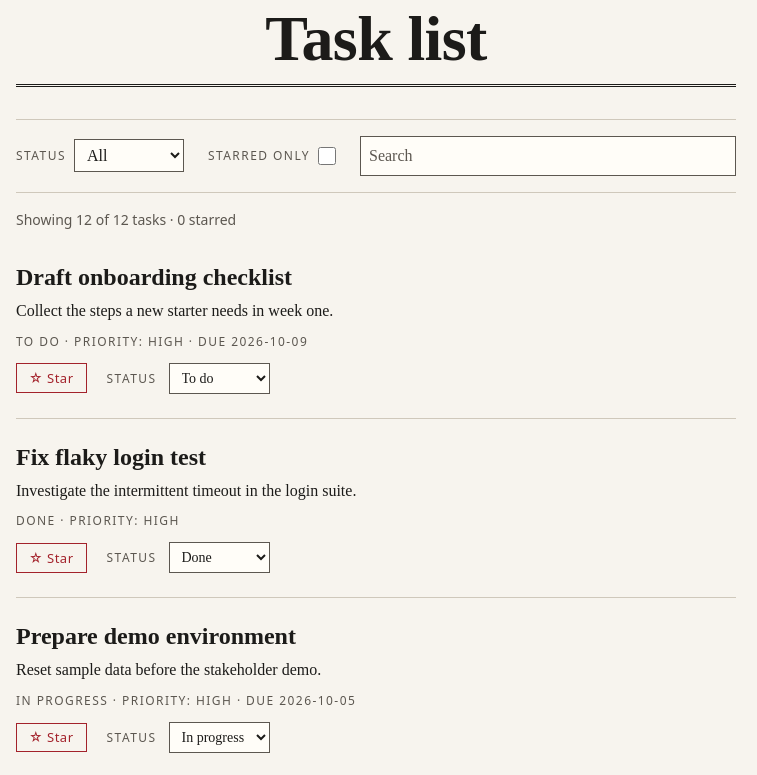
Test: App › filters the list by title as the user types, ignoring case and surrounding spaces (SDLC-13 AC2)
Type "REVIEW" into the search field labelled "Search" at (548, 156), box [360,136,736,176]
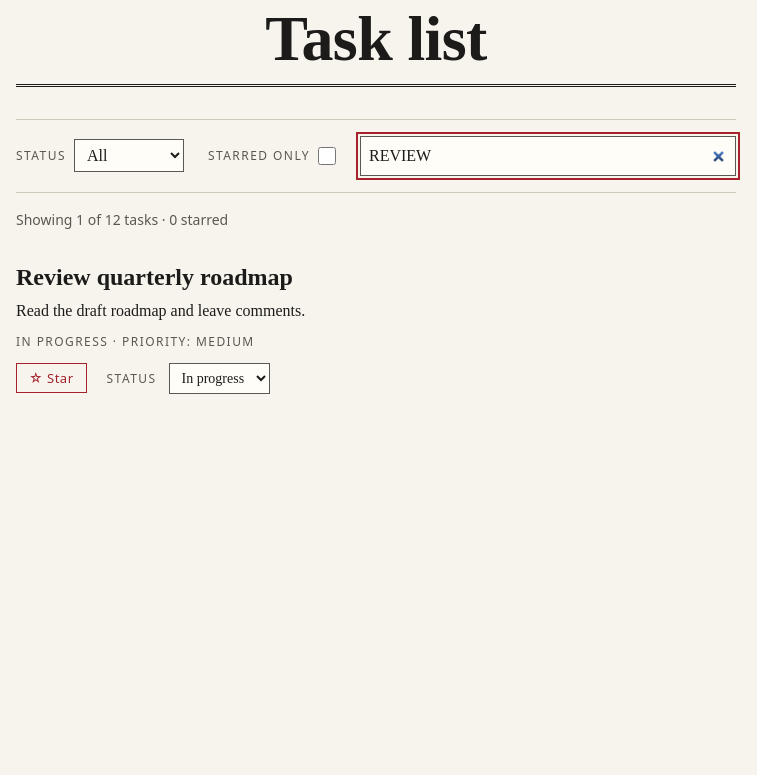
Expected: the list item shows "Review quarterly roadmap", [16,264,293,290]
Expected: the number of list items is 1, [16,264,397,394]
Replace the text in the search field named "Search" with "  review  " at (548, 156), box [360,136,736,176]
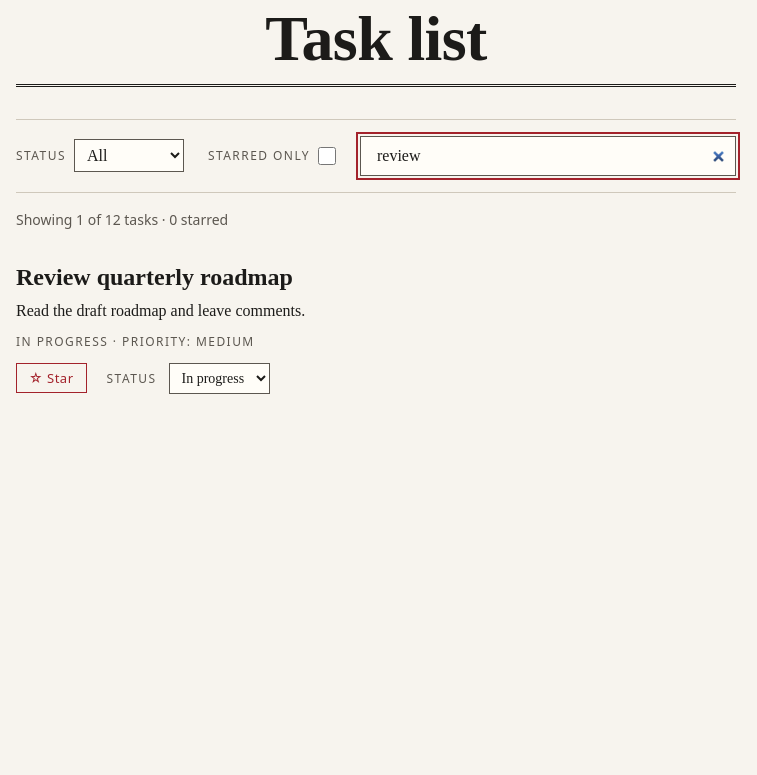
Expected: the number of list items is 1, [16,264,397,394]
Expected: the list item shows "Review quarterly roadmap", [16,264,293,290]
Replace the text in the search field named "Search" with "re" at (548, 156), box [360,136,736,176]
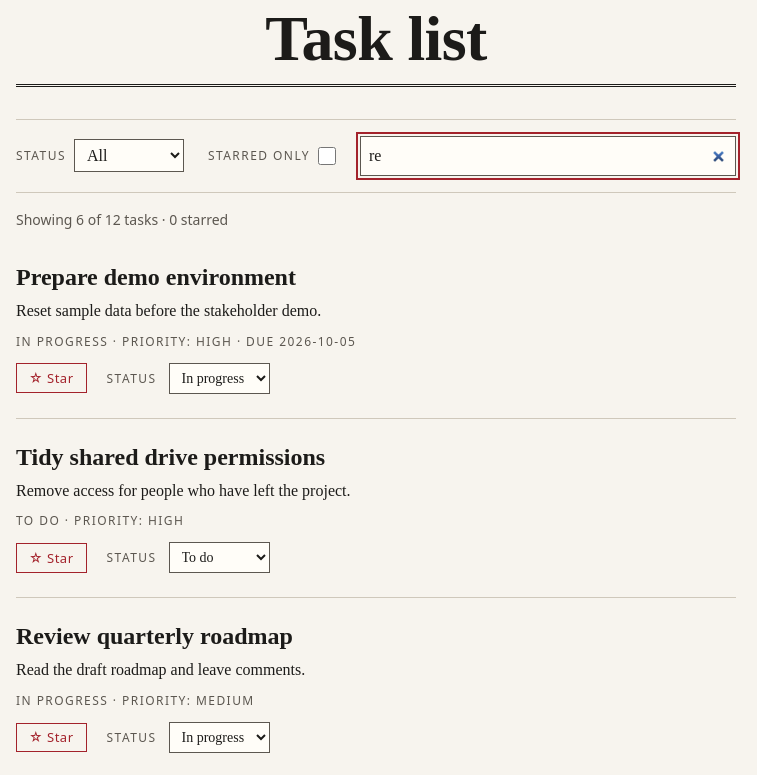
Expected: the number of list items is 6
